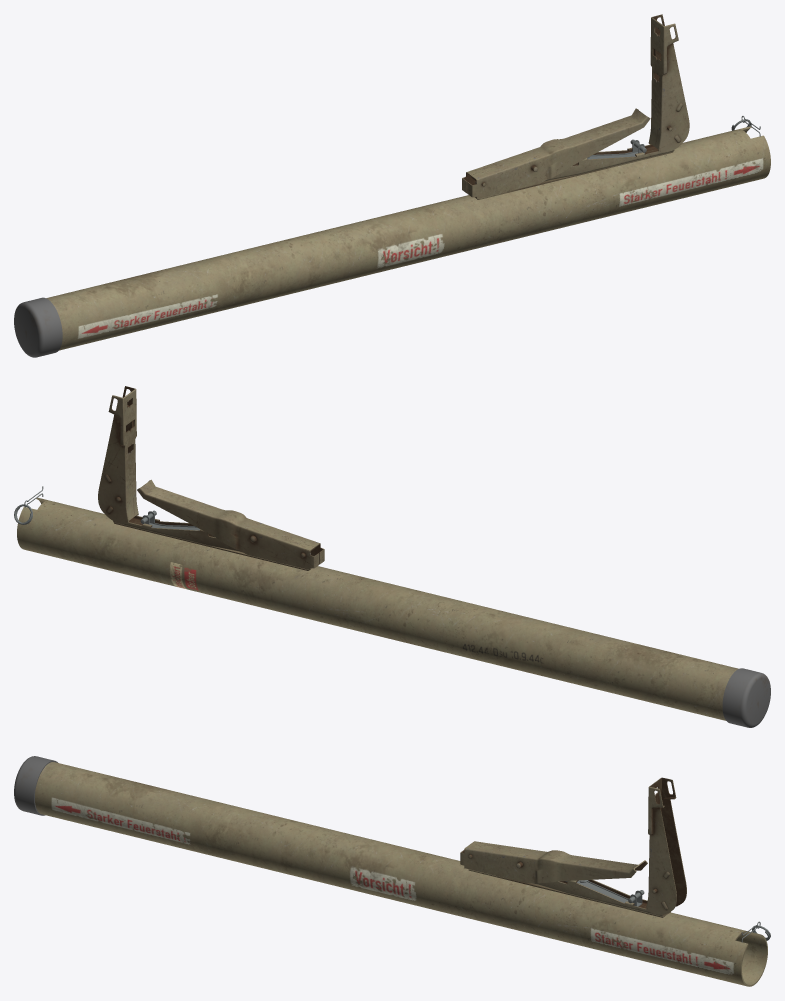
Rendered from SM_FPVM_PzfSpentTube.fbx.
3 renders of one model, top to bottom at view 1: azimuth 30°, elevation 25°; view 2: azimuth 150°, elevation 25°; view 3: azimuth 330°, elevation 25°, orthographic.
Parts seen in each view (by area): view 1: SM_FPVM_PzfSpentTube; view 2: SM_FPVM_PzfSpentTube; view 3: SM_FPVM_PzfSpentTube.
Part boxes in pixels (<box>): SM_FPVM_PzfSpentTube: <box>14,14,770,357</box>; SM_FPVM_PzfSpentTube: <box>14,386,770,727</box>; SM_FPVM_PzfSpentTube: <box>14,756,770,986</box>.
Size of the model in its own units: 80.34 by 5.4 by 18.87.
